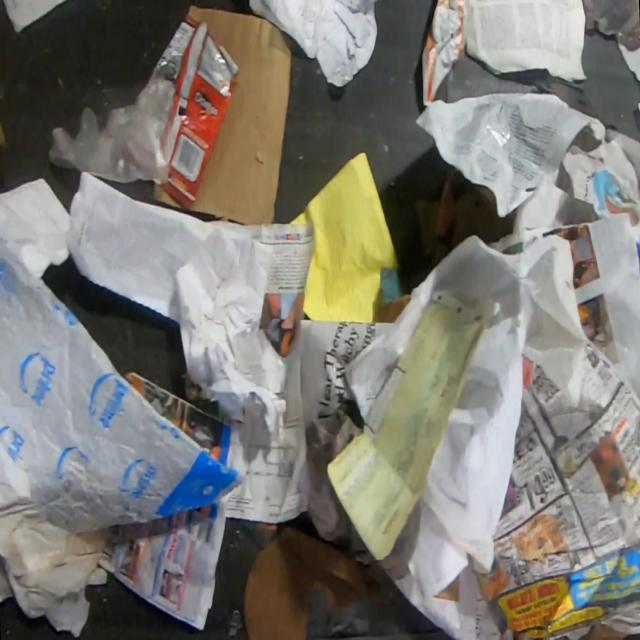cardboard: (186, 3, 294, 225), (414, 166, 516, 268)
soft_plastic: (0, 228, 247, 534), (148, 13, 240, 211), (48, 78, 176, 185)
